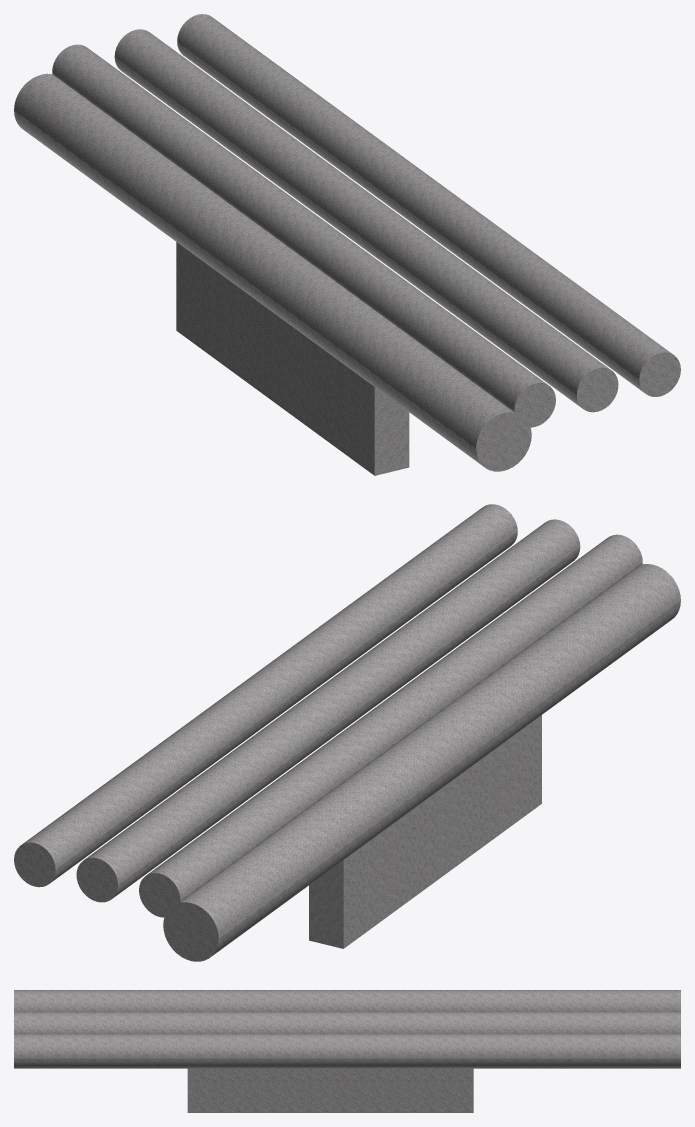
3 views of the same model, one above another, from view 1: azimuth 30°, elevation 25°; view 2: azimuth 150°, elevation 25°; view 3: azimuth 270°, elevation 25° (orthographic). The views are drawn at different scales.
Parts seen in each view (by area): view 1: 0_0_2_2_2_0_1_0; view 2: 0_0_2_2_2_0_1_0; view 3: 0_0_2_2_2_0_1_0.
Boxes of the visible parts, x1=… form: 0_0_2_2_2_0_1_0: x1=14, y1=14, x2=680, y2=475; 0_0_2_2_2_0_1_0: x1=14, y1=504, x2=680, y2=961; 0_0_2_2_2_0_1_0: x1=14, y1=990, x2=680, y2=1112.
Bounding box in the file's own units: 2.95 × 2.35 × 11.53.
Materials: 5 (5 with a texture image).
